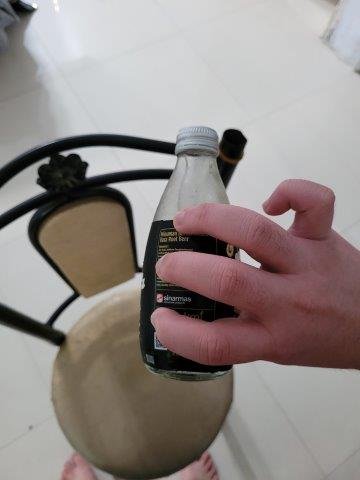botolkaca: (140, 127, 240, 380)
